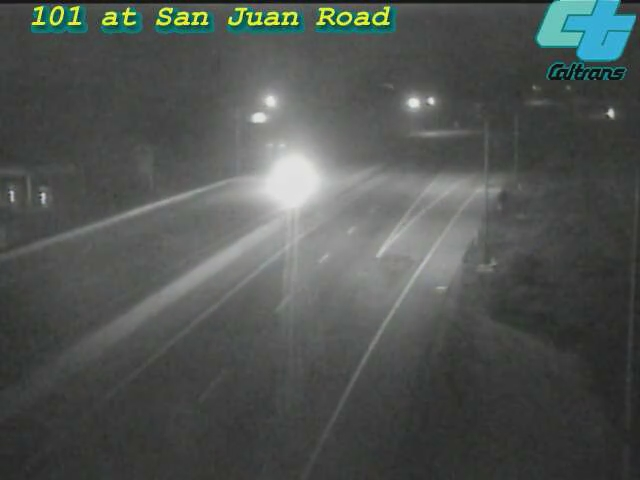vehicle: (246, 139, 326, 219), (588, 88, 638, 138)
